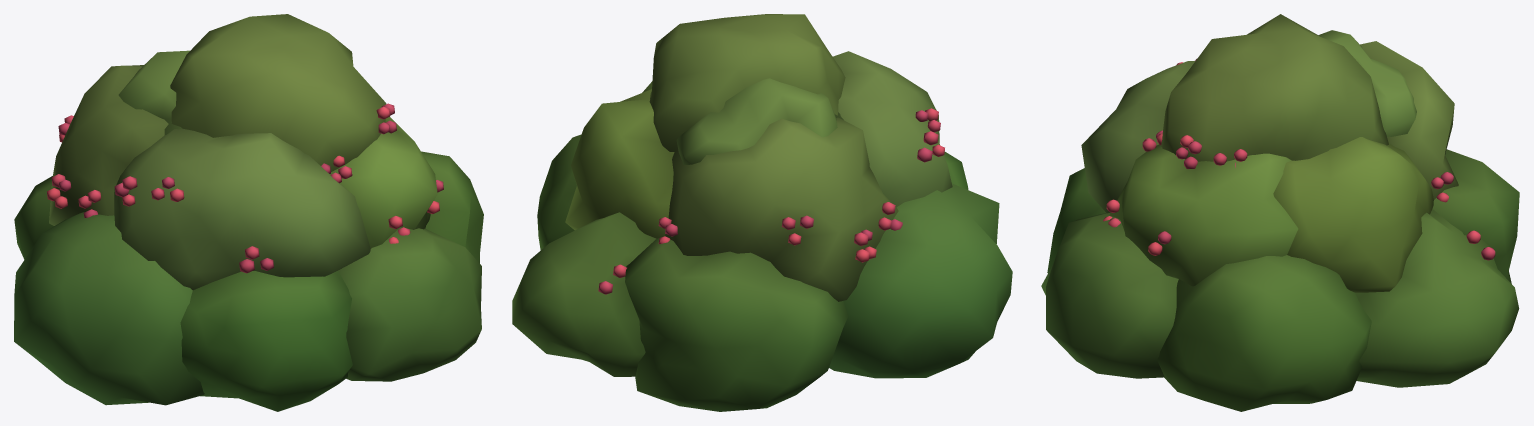
The model's file is berry_bush.glb.
3 renders of one model, left to right at view 1: azimuth 30°, elevation 25°; view 2: azimuth 150°, elevation 25°; view 3: azimuth 270°, elevation 25°, orthographic.
Parts seen in each view (by area): view 1: Bush, Berries; view 2: Bush, Berries; view 3: Bush, Berries.
Boxes of the visible parts, <box> form: Bush: <box>14,14,483,411</box>; Berries: <box>47,103,443,273</box>; Bush: <box>512,14,1012,411</box>; Berries: <box>598,108,944,294</box>; Bush: <box>1041,14,1519,411</box>; Berries: <box>1103,59,1495,260</box>.
Size of the model in its own units: 1.23 by 0.9165 by 1.13.
